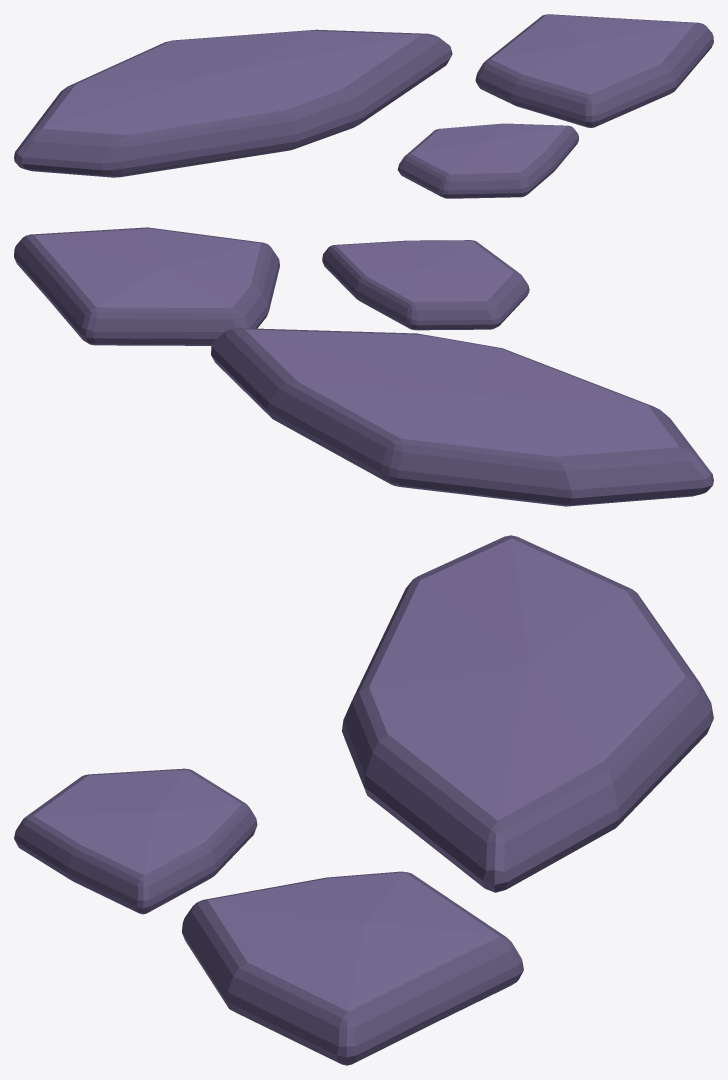
File: shard_group_01.glb
3 views of the same model, one above another, from view 1: azimuth 30°, elevation 25°; view 2: azimuth 150°, elevation 25°; view 3: azimuth 270°, elevation 25° (orthographic). The views are drawn at different scales.
Visible parts, largest first — view 1: shard_group_01; view 2: shard_group_01; view 3: shard_group_01.
Part boxes in pixels (x1,y1,x2,y2): shard_group_01: [14, 14, 713, 198]; shard_group_01: [14, 227, 713, 506]; shard_group_01: [14, 535, 713, 1065].
Bounding box in the file's own units: 1.2 × 0.0829 × 0.7086.
